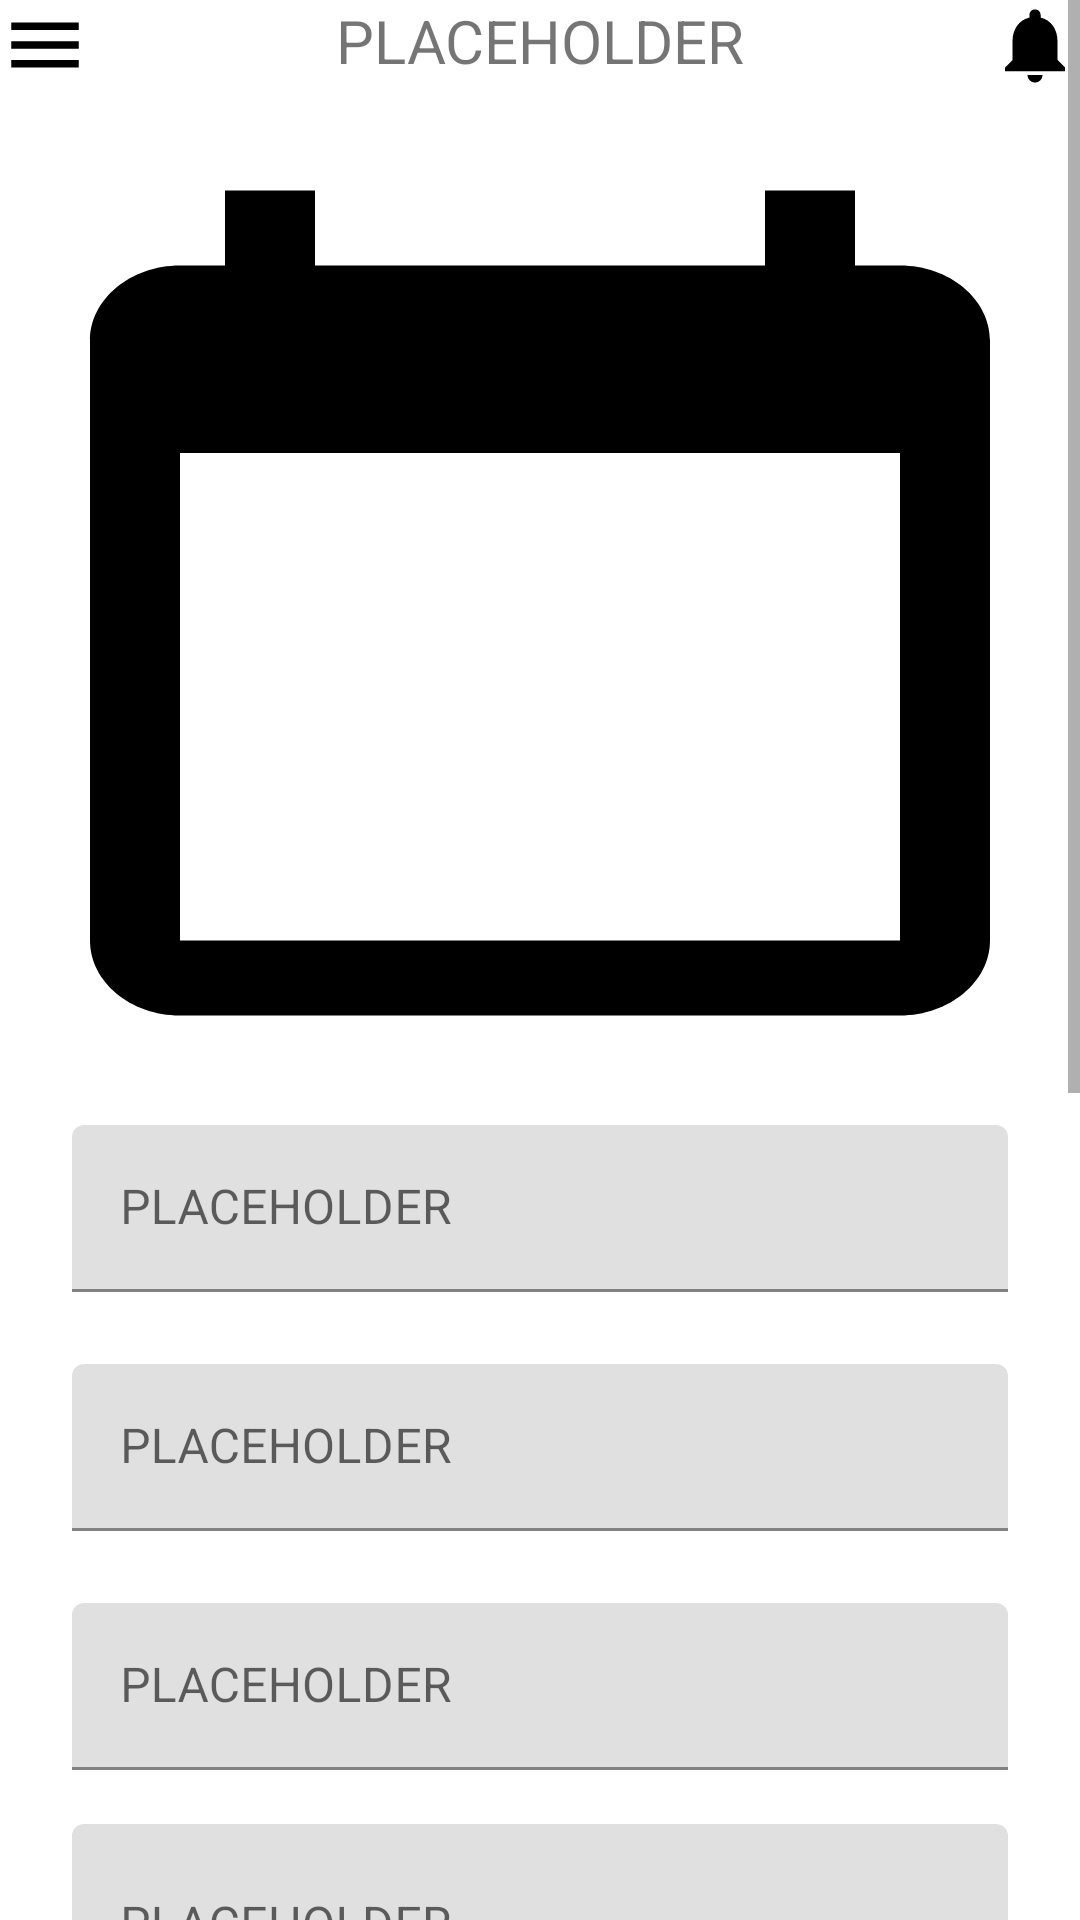

Screen size 1080 × 1920. Icon name, then its box in pixels as box(x1, y1, x2, y2):
menu: box(11, 22, 79, 68)
notifications: box(1005, 9, 1065, 83)
